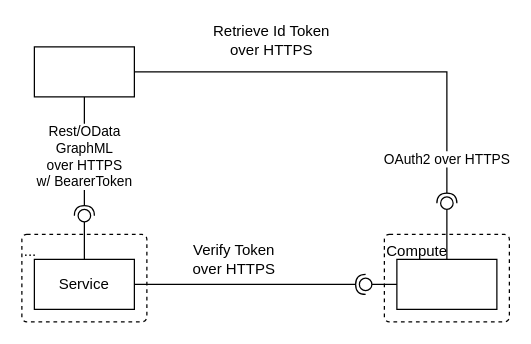
The diagram is 531 pixels wide and 344 high, and some of its shapes have lost their labels. The shapes that lost their labels are listed below. From the top down, each one's centre as x and y in pixels, then its label:
[83,71]: Service Client
[446,283]: IdP Service
